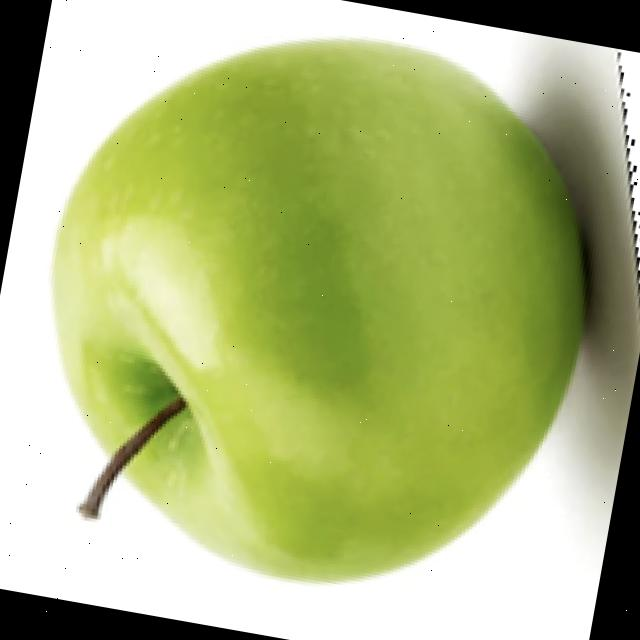apple: (44, 33, 640, 589)
